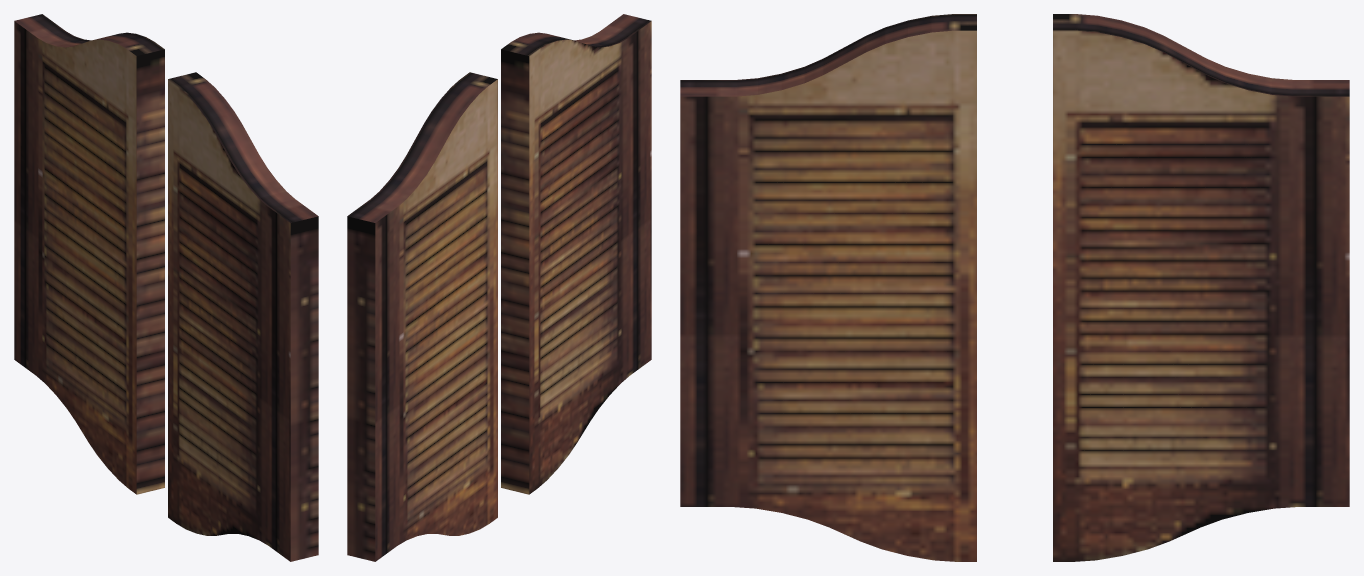
File: bar doors .fbx
3 renders of one model, left to right at view 1: azimuth 30°, elevation 25°; view 2: azimuth 150°, elevation 25°; view 3: azimuth 270°, elevation 25°, orthographic. The views are drawn at different scales.
Visible parts, largest first — view 1: Cube.031, Cube.021; view 2: Cube.021, Cube.031; view 3: Cube.021, Cube.031.
Boxes of the visible parts, x1,y1,x2,y2 form: Cube.031: (168, 72, 318, 561); Cube.021: (14, 14, 164, 494); Cube.021: (347, 72, 497, 561); Cube.031: (501, 14, 651, 494); Cube.021: (1053, 14, 1349, 561); Cube.031: (680, 14, 976, 561).
Bounding box in the file's own units: 29.06 × 432 × 493.
